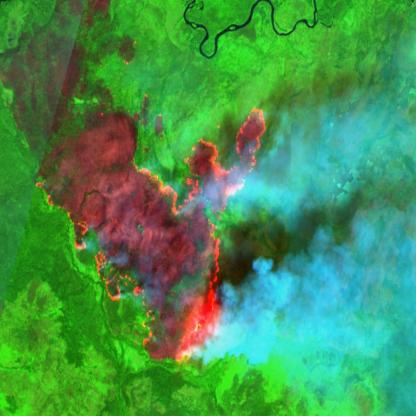fire: (35, 101, 278, 372)
